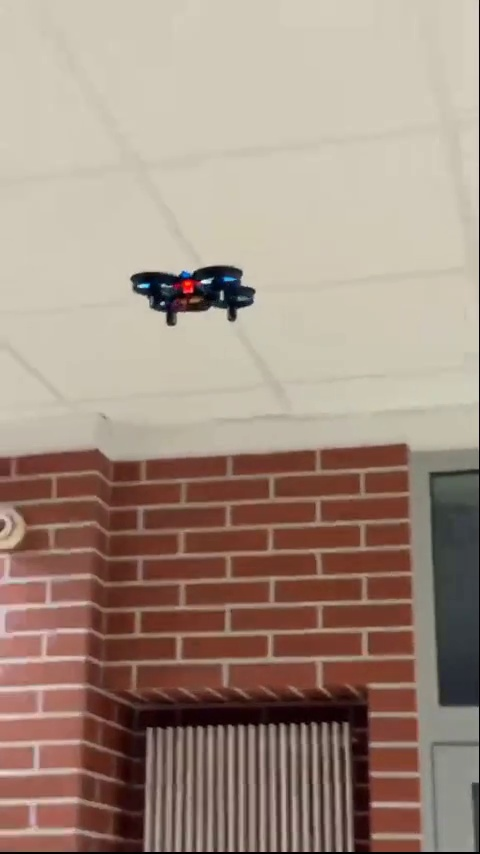drone: (131, 267, 260, 326)
